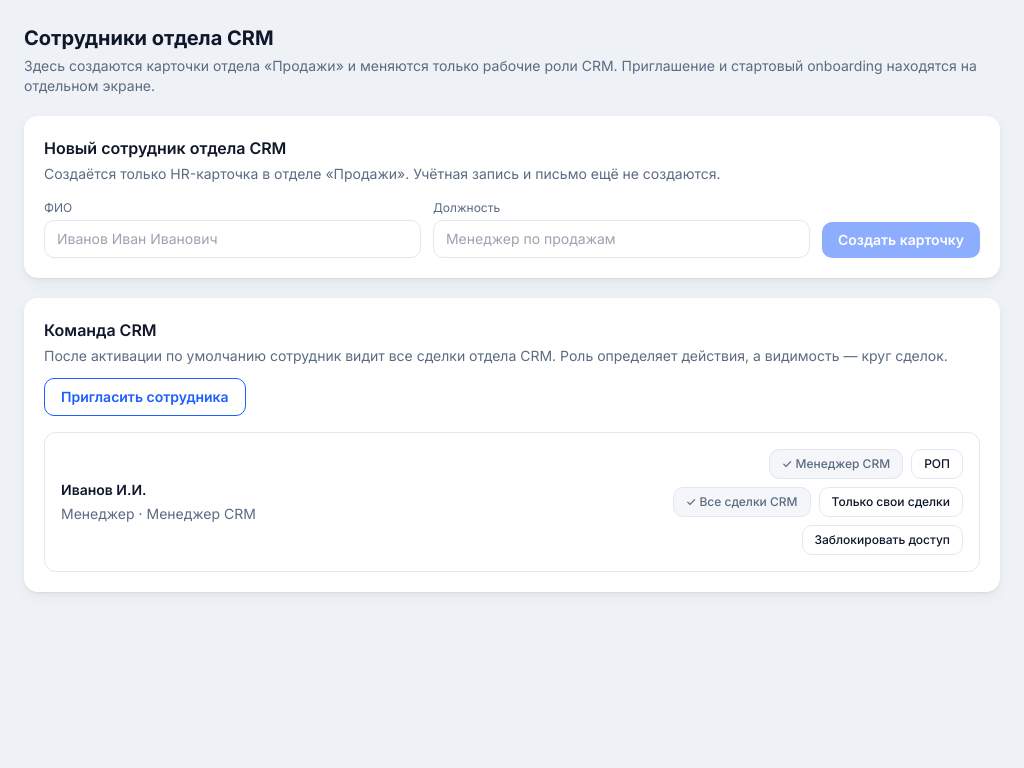
Test case: CrmStaffAccess › создаёт только карточку CRM-сотрудника
Type "Петров П.П." into the field labelled "ФИО". click: [232, 239]
box: [44,220,421,258]
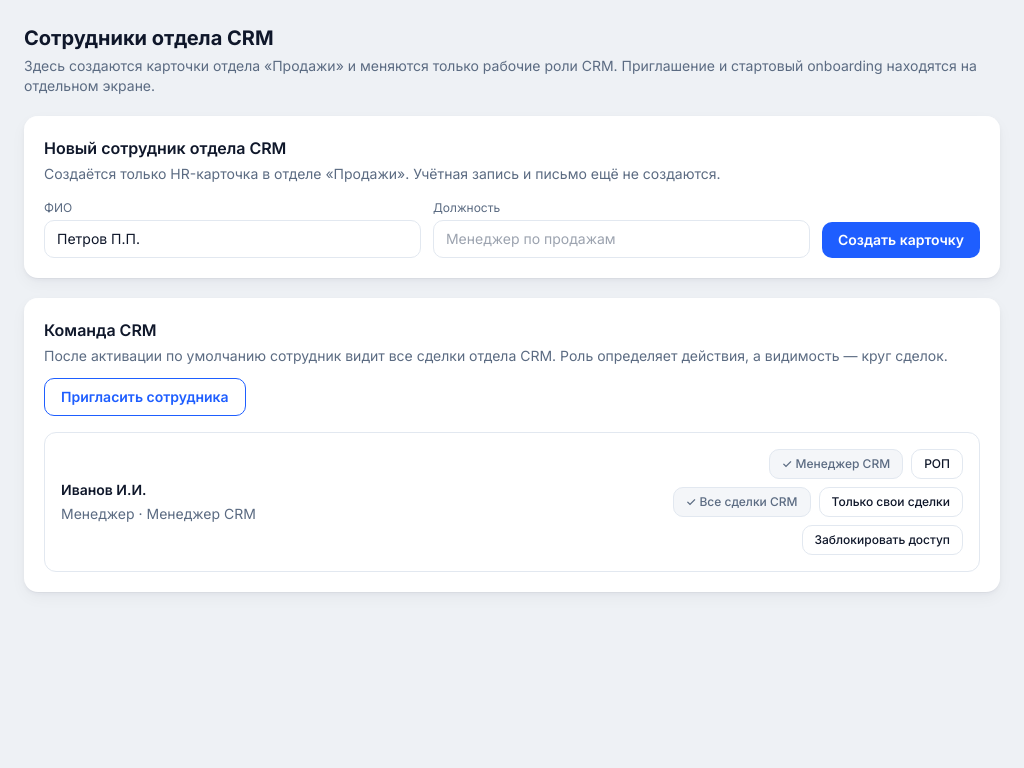
Click the button "Создать карточку". click: [901, 240]
box: [822,222,980,258]
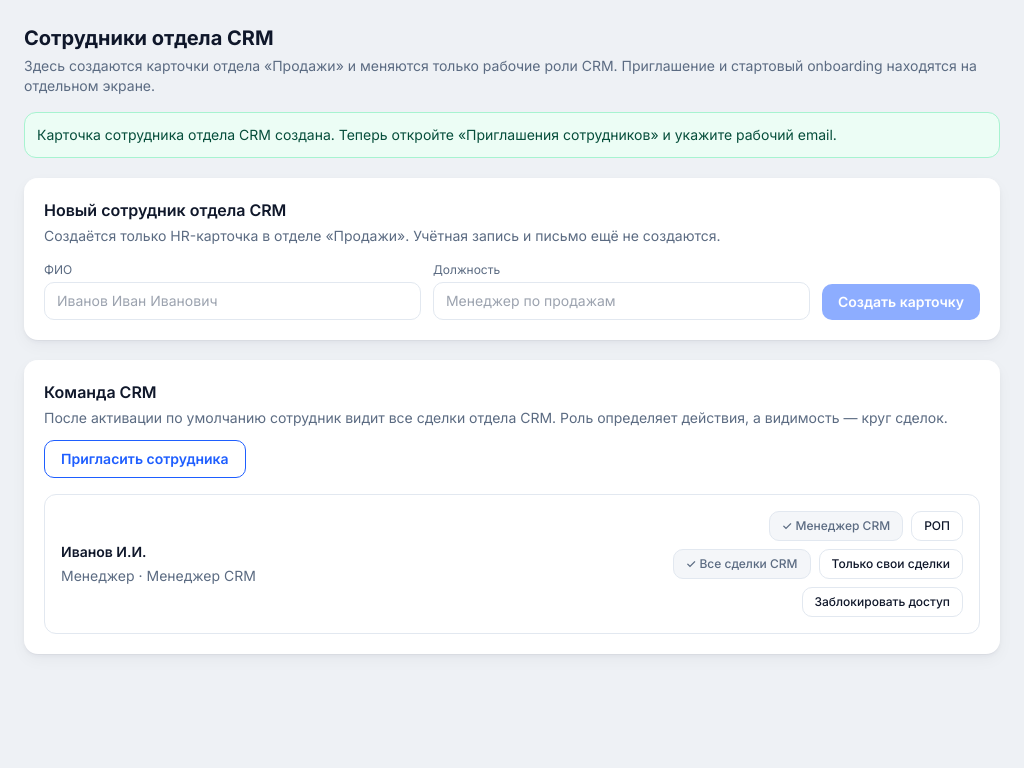
Expected: the text "Учётная запись и письмо ещё не создаются" is shown, [44,227,720,244]
Result: the message is shown at [24,112,1000,158]
